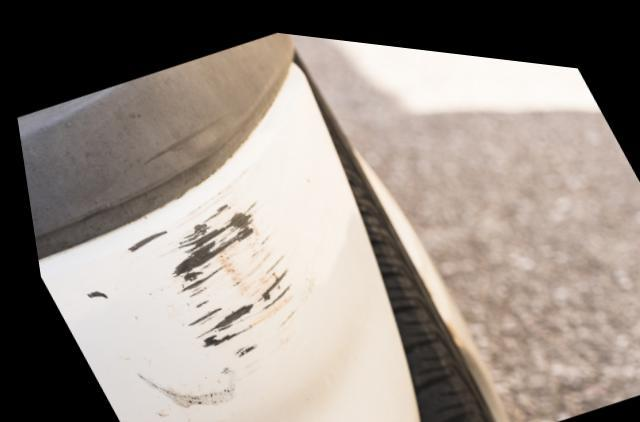scratch: (75, 189, 298, 407)
